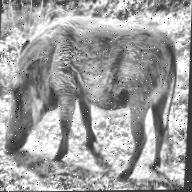boar: (5, 12, 174, 171)
